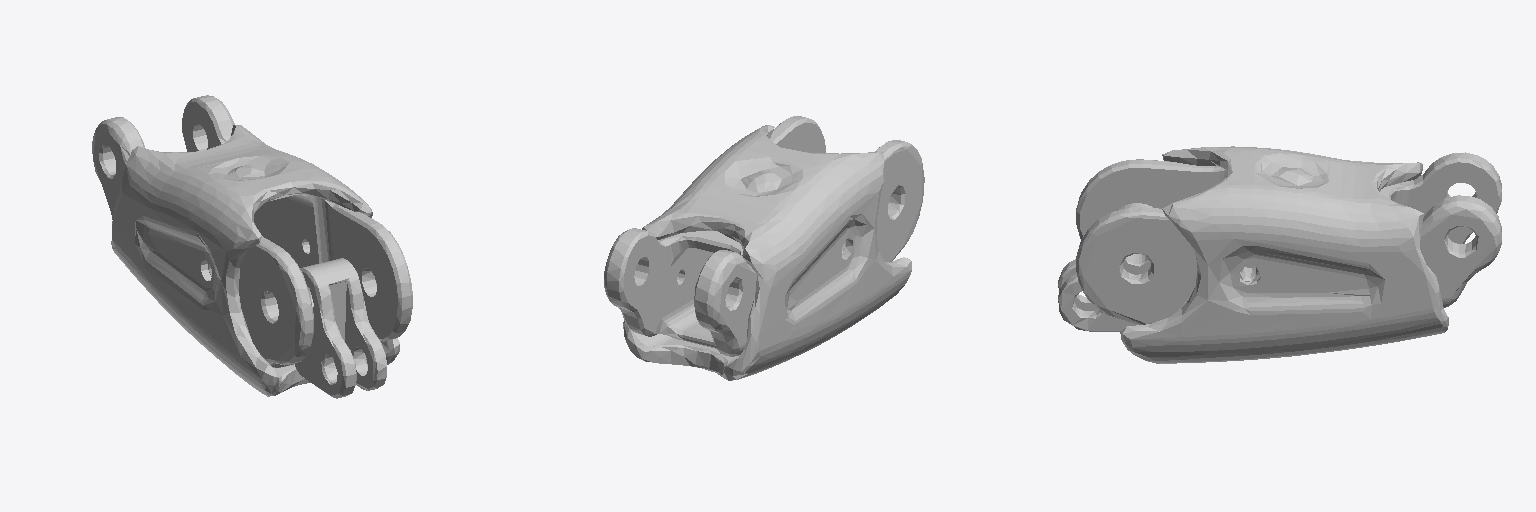
The model's file is R_middle_proximal.obj.
3 views of the same model, side by side, from view 1: azimuth 30°, elevation 25°; view 2: azimuth 150°, elevation 25°; view 3: azimuth 270°, elevation 25° (orthographic).
Visible parts, largest first — view 1: R_middle_proximal; view 2: R_middle_proximal; view 3: R_middle_proximal.
Part boxes in pixels (x1,y1,x2,y2): R_middle_proximal: (92, 95, 412, 398); R_middle_proximal: (604, 116, 924, 380); R_middle_proximal: (1058, 146, 1501, 363).
Bounding box in the file's own units: 0.016 × 0.0192 × 0.0436.